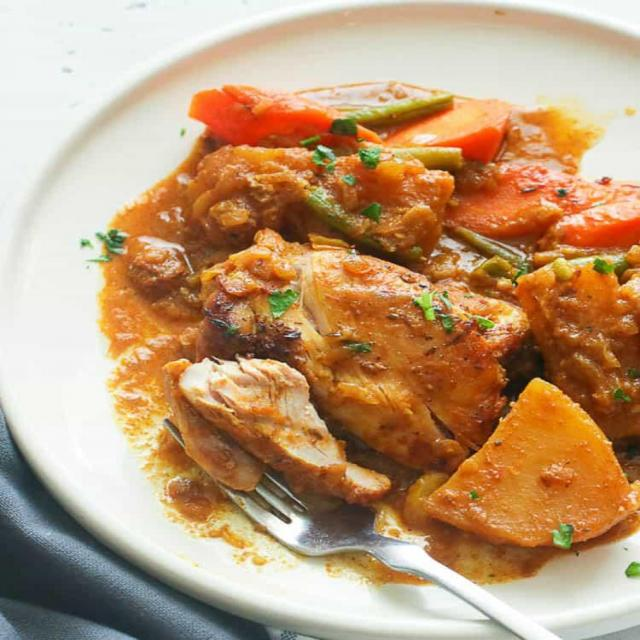chicken: (106, 79, 640, 535)
